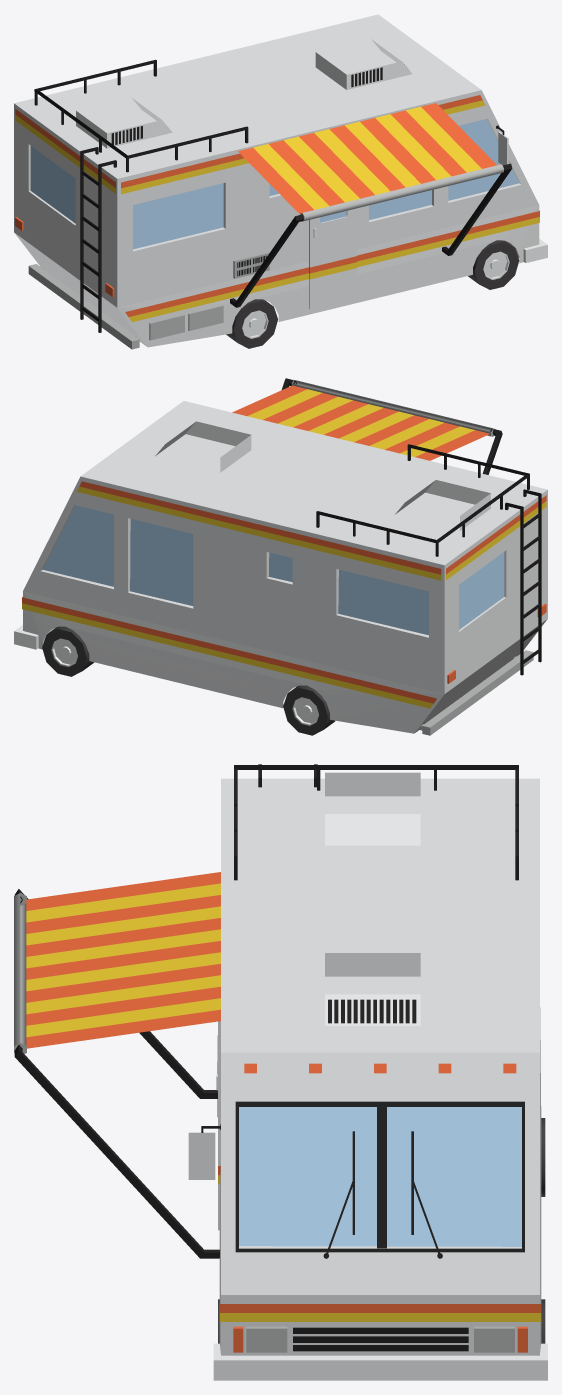
The model's file is M_fangche01.FBX.
3 views of the same model, one above another, from view 1: azimuth 30°, elevation 25°; view 2: azimuth 150°, elevation 25°; view 3: azimuth 270°, elevation 25° (orthographic). The views are drawn at different scales.
Parts seen in each view (by area): view 1: M_fangche01_01, M_fangche01_02, M_fangche01_03; view 2: M_fangche01_01, M_fangche01_02, M_fangche01_03; view 3: M_fangche01_01, M_fangche01_02, M_fangche01_03.
Boxes of the visible parts, <box> form: M_fangche01_01: <box>14,14,547,349</box>; M_fangche01_02: <box>30,119,518,249</box>; M_fangche01_03: <box>34,59,512,338</box>; M_fangche01_01: <box>14,385,547,735</box>; M_fangche01_02: <box>43,505,504,635</box>; M_fangche01_03: <box>51,378,541,725</box>; M_fangche01_01: <box>26,772,547,1380</box>; M_fangche01_02: <box>239,1107,521,1246</box>; M_fangche01_03: <box>14,764,518,1258</box>.
Bounding box in the file's own units: 13.22 × 6.31 × 9.14.
